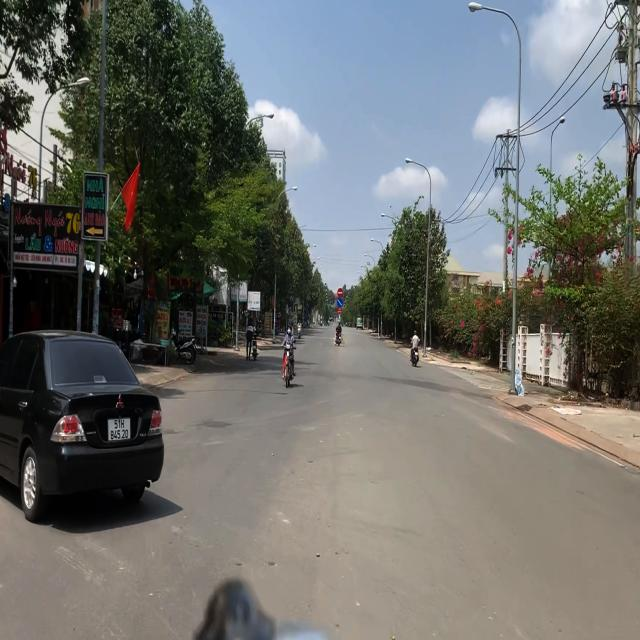Cam nguoc chieu: (337, 287, 343, 298)
Hieu lenh: (338, 298, 342, 308)
